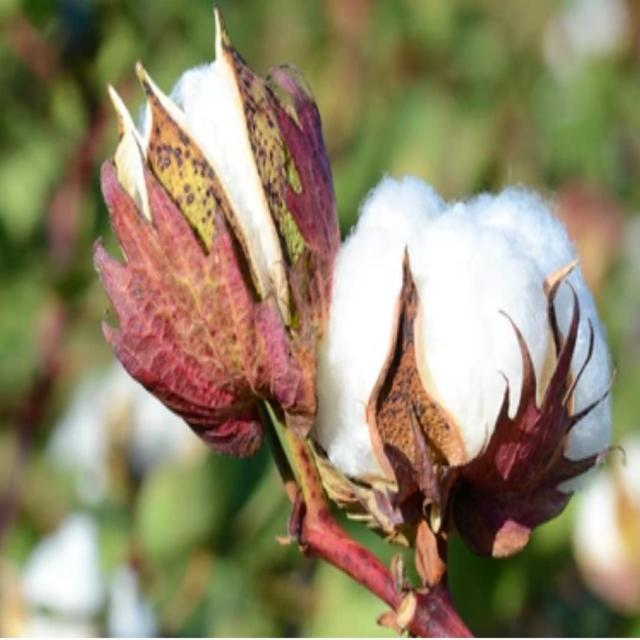Matured Cotton Boll: (314, 178, 605, 548)
Split Cotton Boll: (97, 43, 323, 442)
